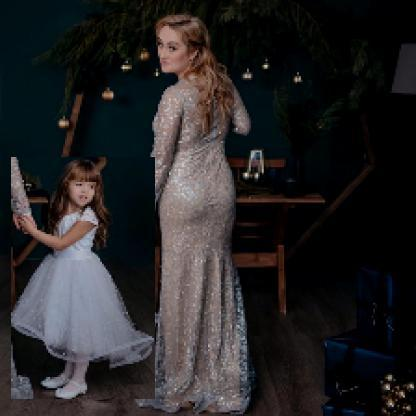child: (12, 158, 157, 401)
